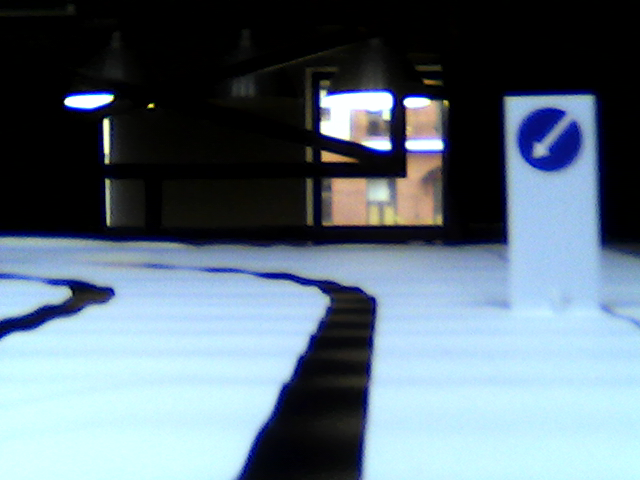prep: (515, 105, 580, 174)
